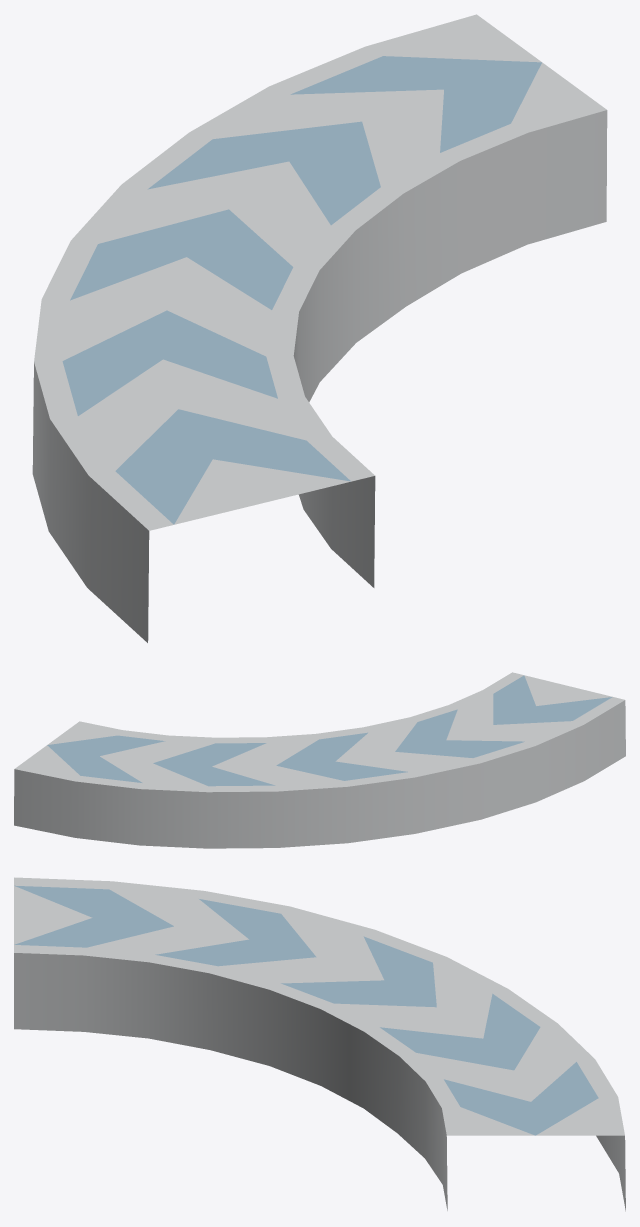
File: road2.fbx
3 views of the same model, one above another, from view 1: azimuth 30°, elevation 25°; view 2: azimuth 150°, elevation 25°; view 3: azimuth 270°, elevation 25° (orthographic). The views are drawn at different scales.
Parts seen in each view (by area): view 1: road_02; view 2: road_02; view 3: road_02.
Part boxes in pixels (x1=…): road_02: x1=32, y1=14, x2=607, y2=642; road_02: x1=14, y1=672, x2=625, y2=848; road_02: x1=14, y1=877, x2=625, y2=1211.
Bounding box in the file's own units: 4317 × 604 × 4317.
